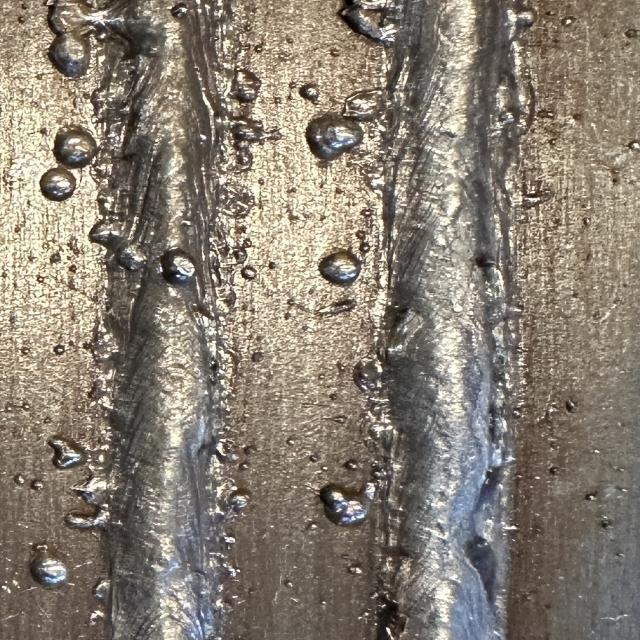Spatters: (585, 218, 591, 225)
